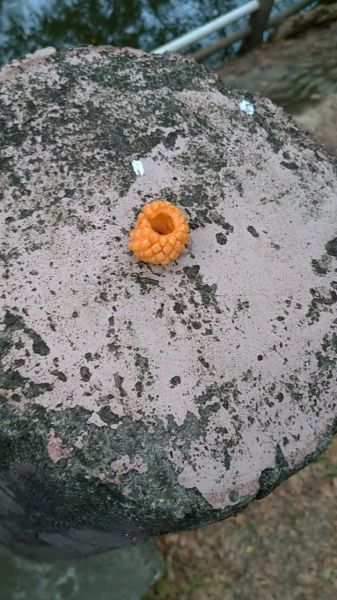eggs: (124, 193, 197, 266)
